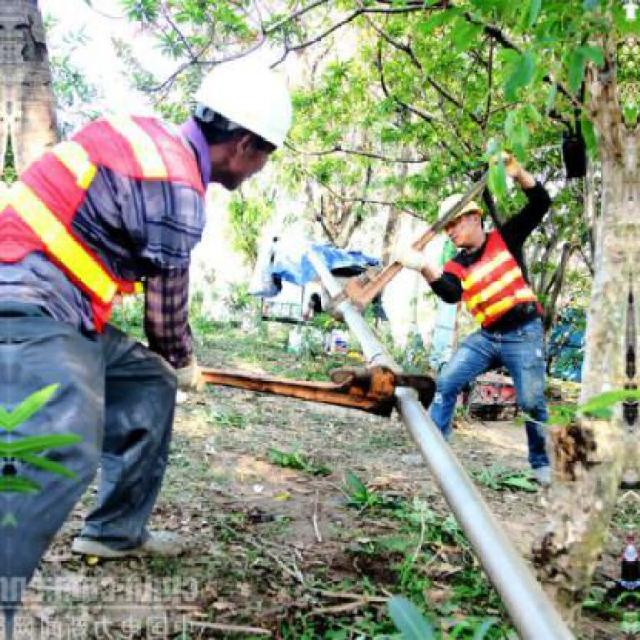Reflective-Jacket: (0, 107, 212, 309), (437, 232, 548, 342)
Safety-Helmet: (183, 50, 306, 162), (425, 181, 489, 237)
